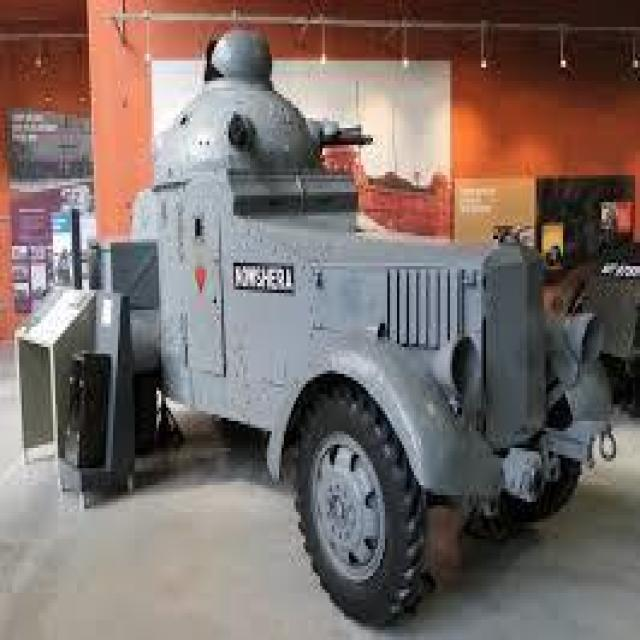Tanks: (33, 54, 564, 603)
